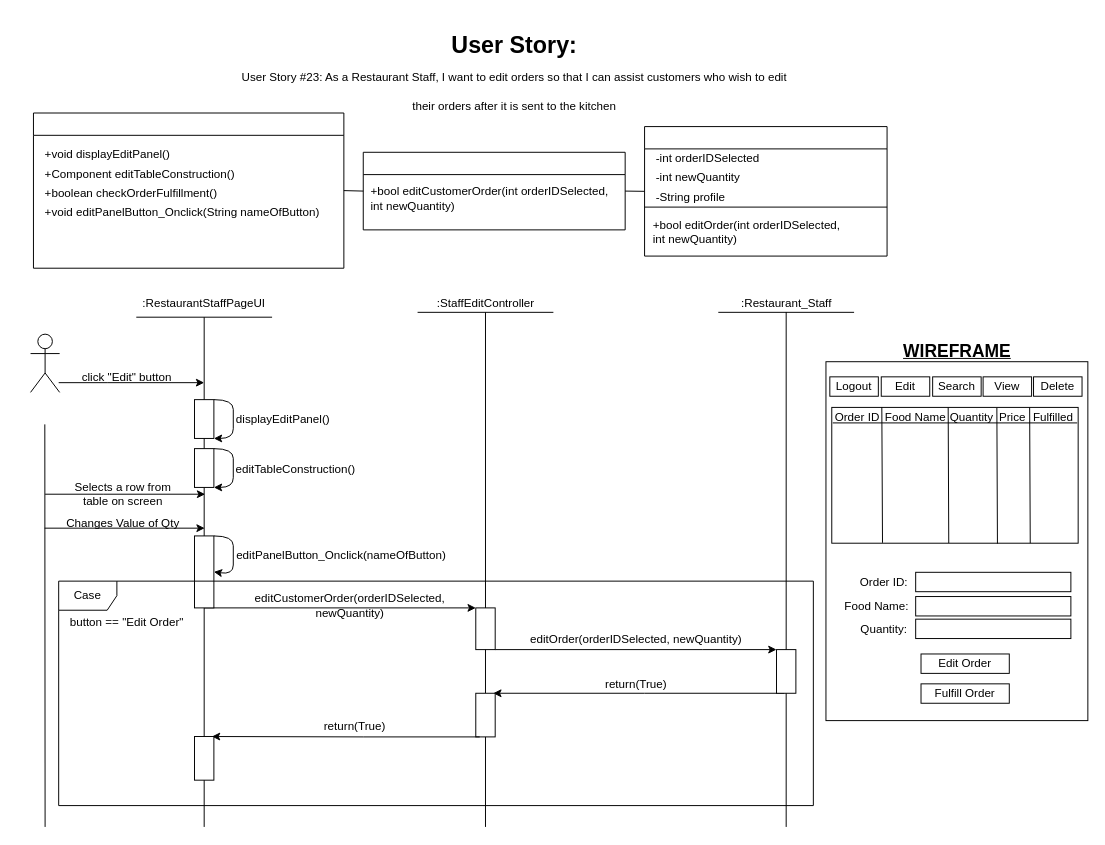
Image size: 1105x845. Some labels were removed from this diagram. The shapes that lost their labels are listed below. From the top down, each one's box as (x1, y1, x2, y2) in pixels, then its label:
(32, 112, 344, 268): RestaurantStaffPageUI
(362, 151, 625, 230): StaffEditController
(644, 126, 887, 256): Restaurant_Staff
(30, 333, 60, 392): Restaurant Staff
